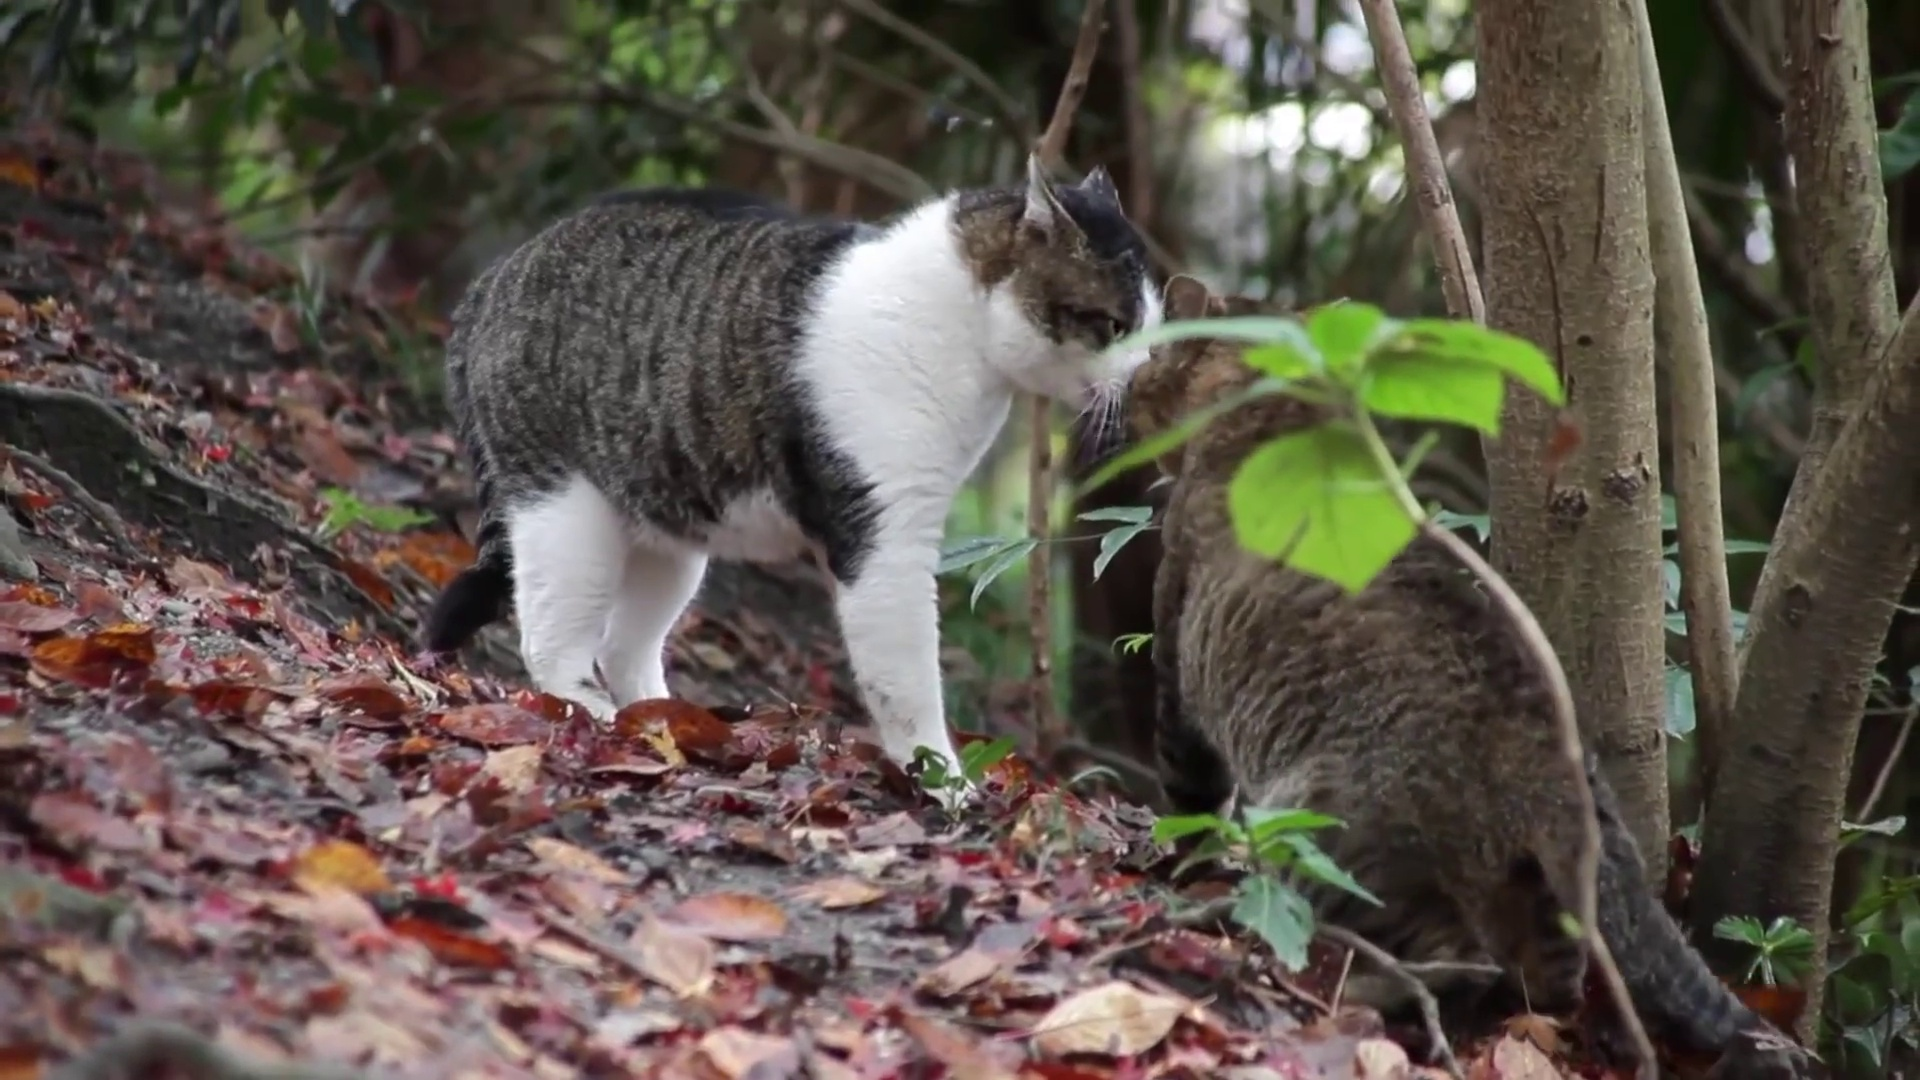black-white: (417, 152, 1158, 808)
pure black: (1124, 277, 1598, 961)
